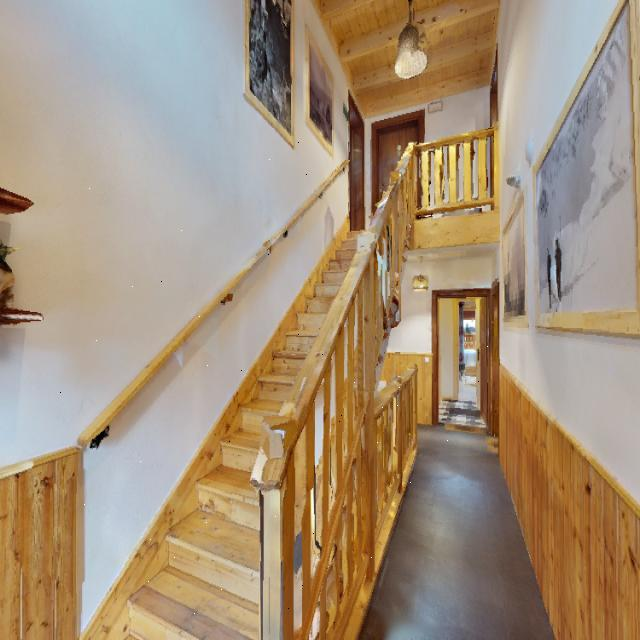door-frame: (428, 292, 490, 442)
stairs: (60, 131, 418, 640)
